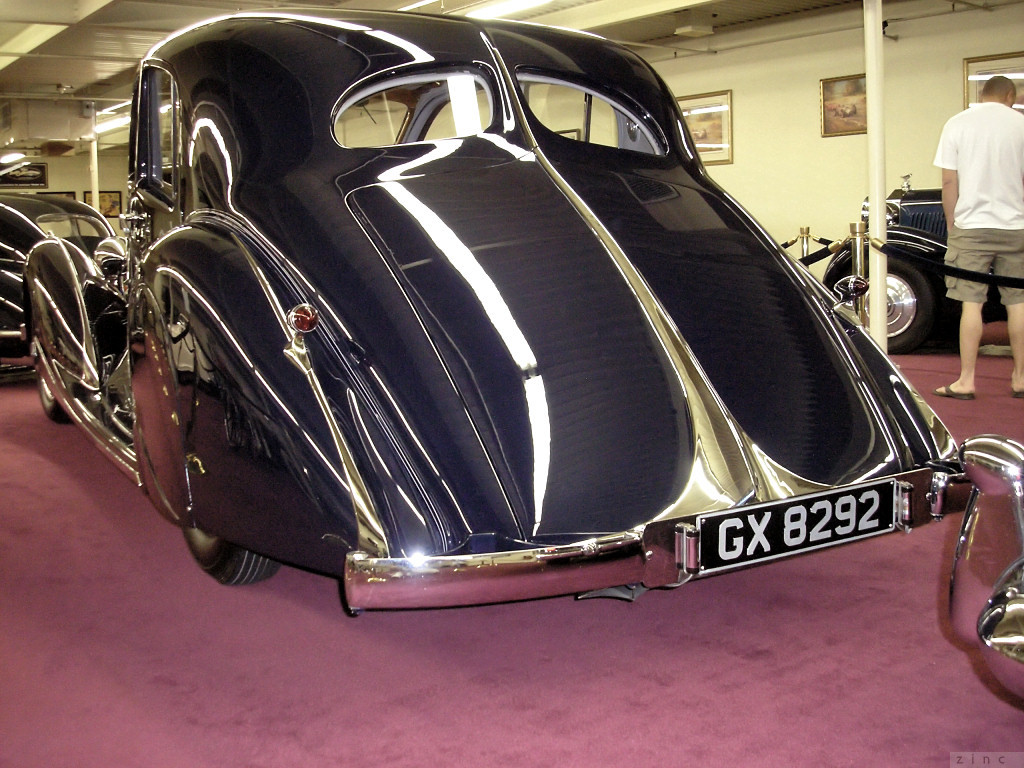Car: (24, 10, 970, 614), (0, 177, 115, 351)
